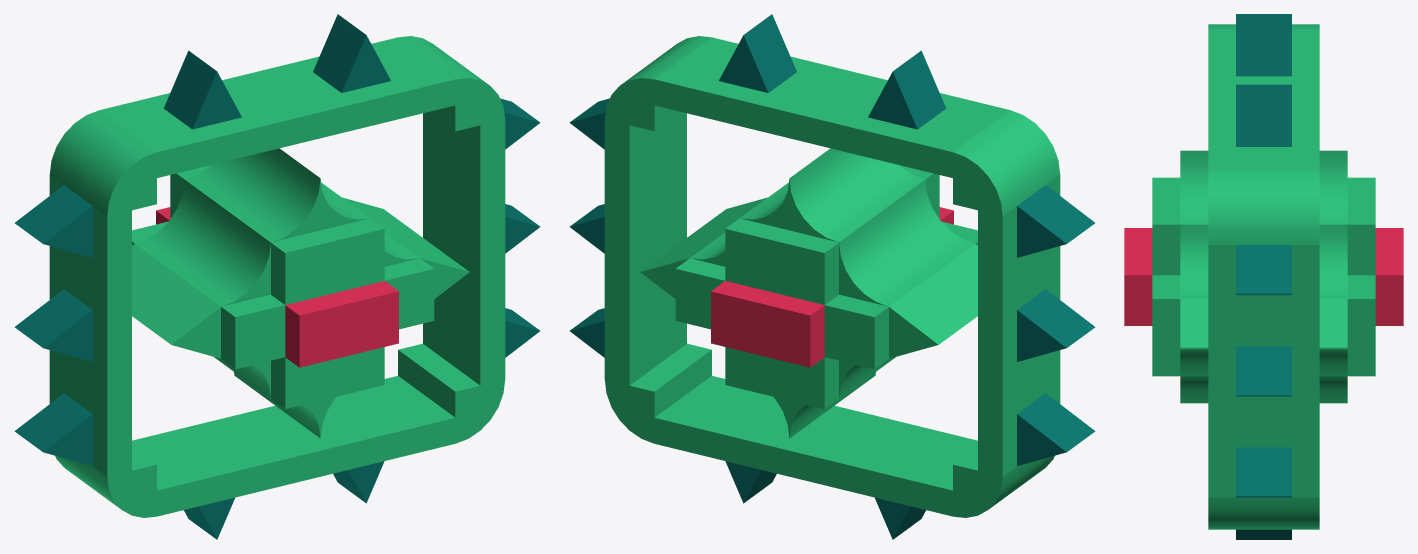
Rendered from enemigoskin.fbx.
The picture shows the model from 3 angles, left to right: view 1: azimuth 30°, elevation 25°; view 2: azimuth 150°, elevation 25°; view 3: azimuth 270°, elevation 25°; orthographic projection. The views are drawn at different scales.
Visible parts, largest first — view 1: generated; view 2: generated; view 3: generated.
Boxes of the visible parts, bbox=[...] form: generated: bbox=[14, 14, 540, 539]; generated: bbox=[569, 14, 1095, 539]; generated: bbox=[1124, 14, 1403, 539].
Size of the model in its own units: 100 by 90 by 50.
